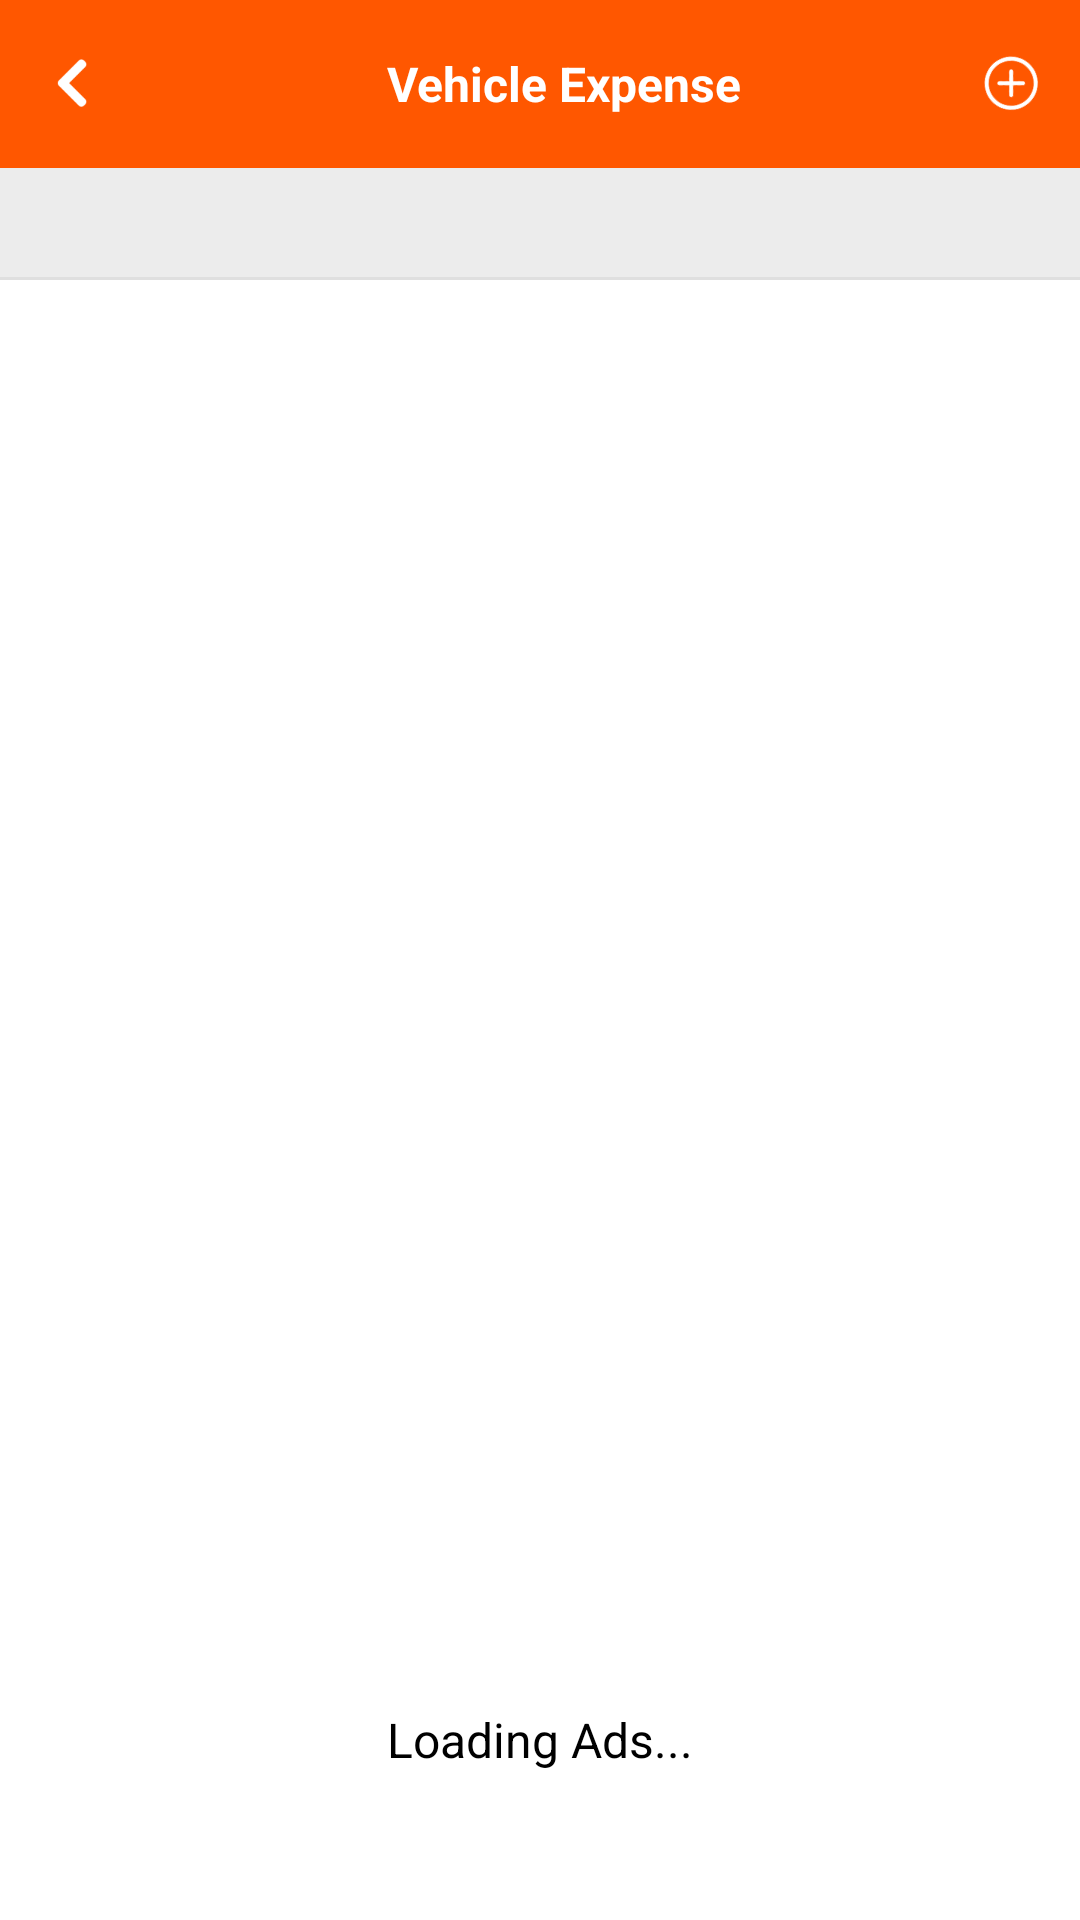

Where to tap for icons on this 1080 × 1920 app screen, as [x,y]:
add: [1011,83]
back: [72,83]
